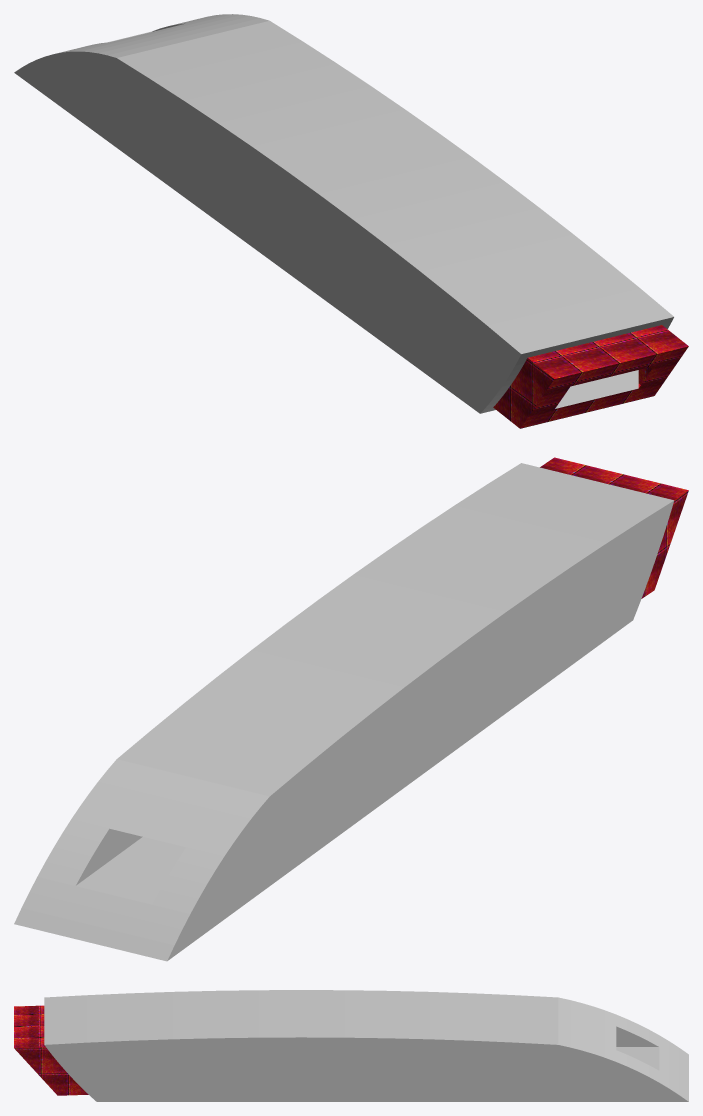
Rendered from HEP CAnnon.obj.
3 views of the same model, one above another, from view 1: azimuth 30°, elevation 25°; view 2: azimuth 150°, elevation 25°; view 3: azimuth 270°, elevation 25° (orthographic). The views are drawn at different scales.
Visible parts, largest first — view 1: Mesh1_Model; view 2: Mesh1_Model; view 3: Mesh1_Model.
Boxes of the visible parts, bbox=[...] form: Mesh1_Model: bbox=[14, 14, 688, 428]; Mesh1_Model: bbox=[14, 457, 688, 961]; Mesh1_Model: bbox=[14, 990, 688, 1101].
Bounding box in the file's own units: 343 × 217 × 2062.
2 materials, 1 textured.
